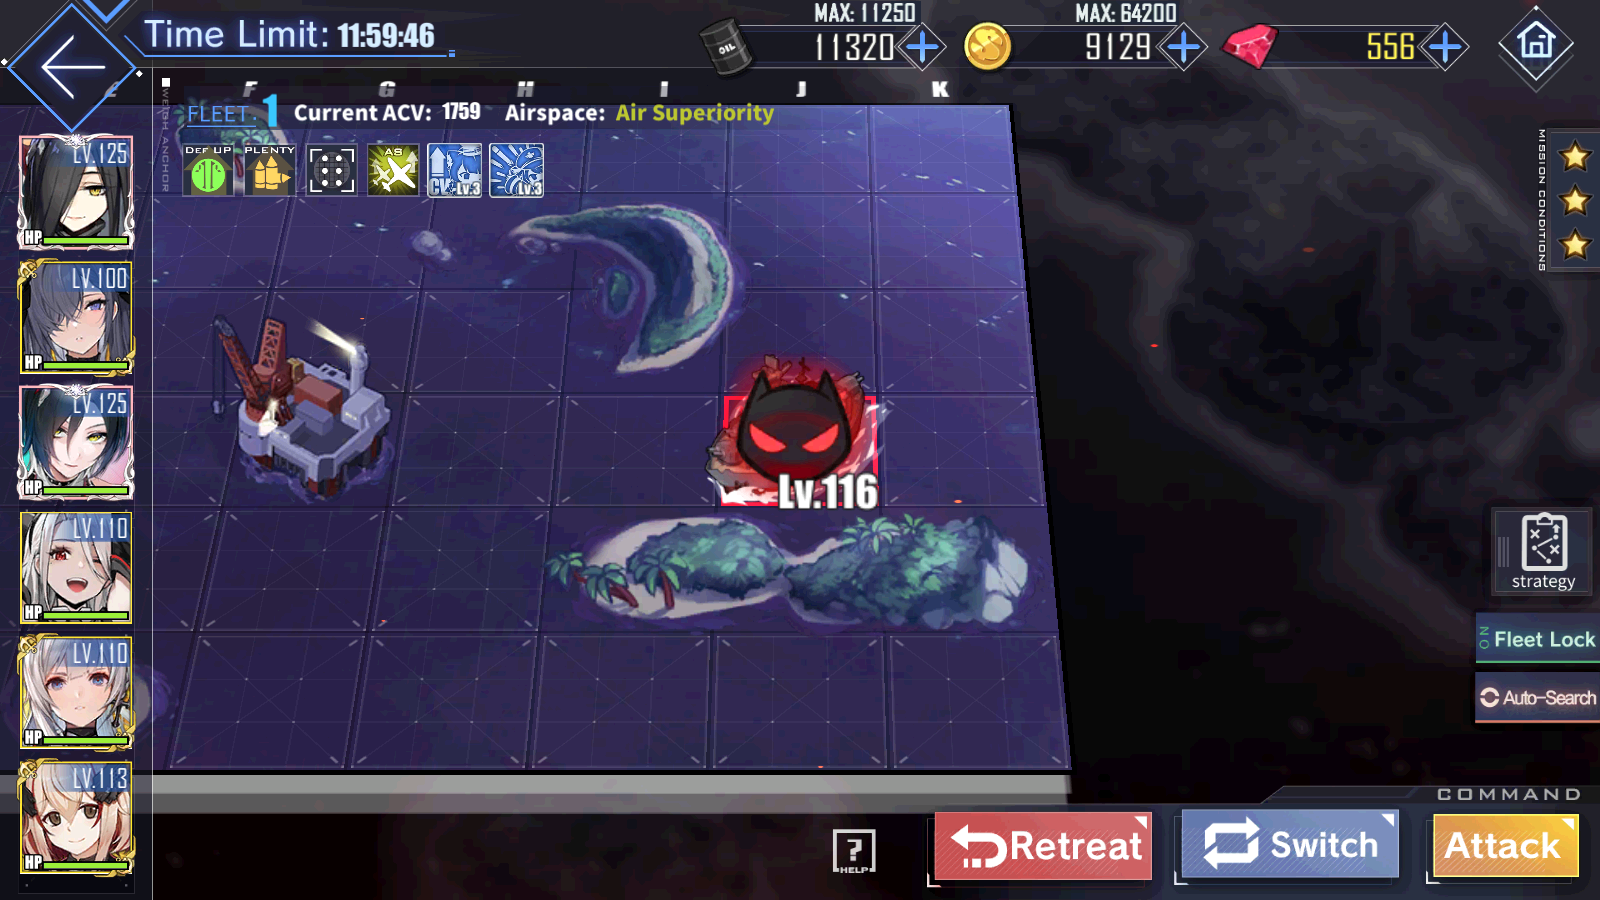boss: (713, 355, 879, 510)
